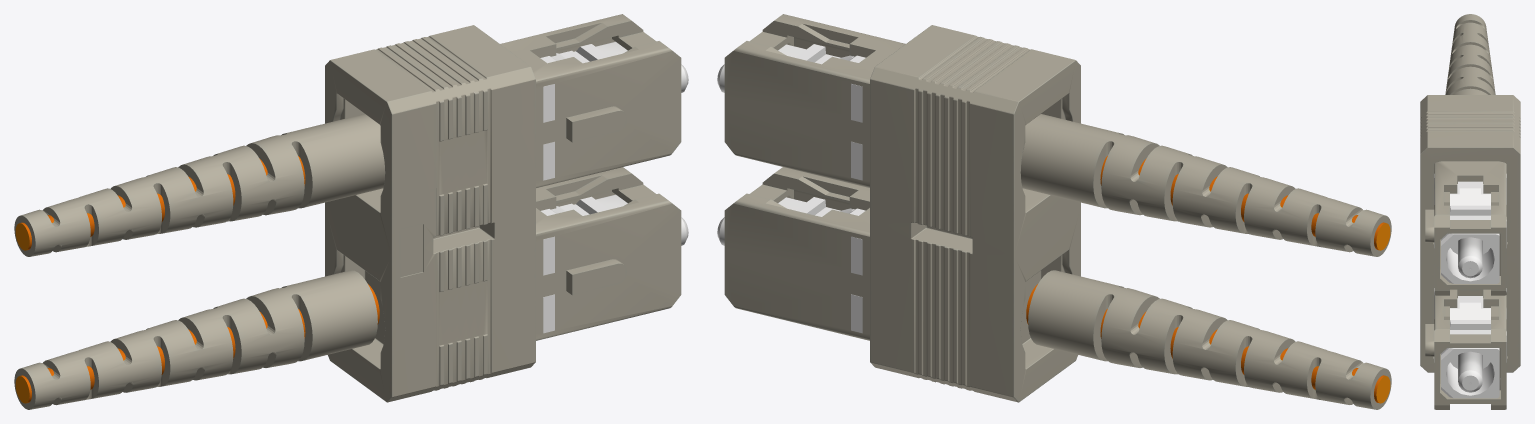
File: sc_plug_visual.glb
The picture shows the model from 3 angles, left to right: view 1: azimuth 30°, elevation 25°; view 2: azimuth 150°, elevation 25°; view 3: azimuth 270°, elevation 25°; orthographic projection. The views are drawn at different scales.
Visible parts, largest first — view 1: Cube.002, HOUSING BLUE_Predeterminado.009, Cylinder.005, Cylinder.011, HOUSING BLUE_Predeterminado.005, HOUSING BLUE_Predeterminado.011, Cylinder.007, PARTE INTERNA A_Predeterminado.003, PARTE INTERNA A_Predeterminado.005, Cylinder.009; view 2: Cube.002, HOUSING BLUE_Predeterminado.007, Cylinder.005, Cylinder.011, HOUSING BLUE_Predeterminado.005, HOUSING BLUE_Predeterminado.011, Cylinder.007, Cylinder.009, PARTE INTERNA A_Predeterminado.003, PARTE INTERNA A_Predeterminado.005; view 3: Cube.002, HOUSING BLUE_Predeterminado.005, PARTE INTERNA A_Predeterminado.003, PARTE INTERNA A_Predeterminado.005, Cylinder.005, ferula_Predeterminado.003, ferula_Predeterminado.005, HOUSING BLUE_Predeterminado.011.
Part boxes in pixels (left/top/right/bottom): Cube.002: left=325, top=25, right=535, bottom=402; HOUSING BLUE_Predeterminado.009: left=536, top=51, right=681, bottom=333; Cylinder.005: left=14, top=114, right=385, bottom=256; Cylinder.011: left=14, top=270, right=377, bottom=409; HOUSING BLUE_Predeterminado.005: left=500, top=14, right=672, bottom=340; HOUSING BLUE_Predeterminado.011: left=543, top=84, right=554, bottom=333; Cylinder.007: left=15, top=284, right=379, bottom=403; PARTE INTERNA A_Predeterminado.003: left=540, top=41, right=627, bottom=63; PARTE INTERNA A_Predeterminado.005: left=541, top=194, right=627, bottom=215; Cylinder.009: left=15, top=156, right=305, bottom=250; Cube.002: left=870, top=25, right=1080, bottom=402; HOUSING BLUE_Predeterminado.007: left=724, top=51, right=869, bottom=338; Cylinder.005: left=1020, top=114, right=1391, bottom=256; Cylinder.011: left=1028, top=270, right=1391, bottom=409; HOUSING BLUE_Predeterminado.005: left=733, top=14, right=905, bottom=340; HOUSING BLUE_Predeterminado.011: left=851, top=84, right=862, bottom=333; Cylinder.007: left=1026, top=284, right=1390, bottom=403; Cylinder.009: left=1100, top=156, right=1390, bottom=250; PARTE INTERNA A_Predeterminado.003: left=778, top=44, right=865, bottom=64; PARTE INTERNA A_Predeterminado.005: left=778, top=197, right=865, bottom=216; Cube.002: left=1420, top=95, right=1520, bottom=372; HOUSING BLUE_Predeterminado.005: left=1425, top=161, right=1506, bottom=409; PARTE INTERNA A_Predeterminado.003: left=1441, top=181, right=1499, bottom=283; PARTE INTERNA A_Predeterminado.005: left=1441, top=296, right=1499, bottom=398; Cylinder.005: left=1445, top=14, right=1495, bottom=94; ferula_Predeterminado.003: left=1458, top=237, right=1482, bottom=278; ferula_Predeterminado.005: left=1458, top=351, right=1482, bottom=392; HOUSING BLUE_Predeterminado.011: left=1434, top=174, right=1506, bottom=362.
Size of the model in its own units: 0.0574 by 0.025 by 0.0101.
Materials: 1 (1 with a texture image).
